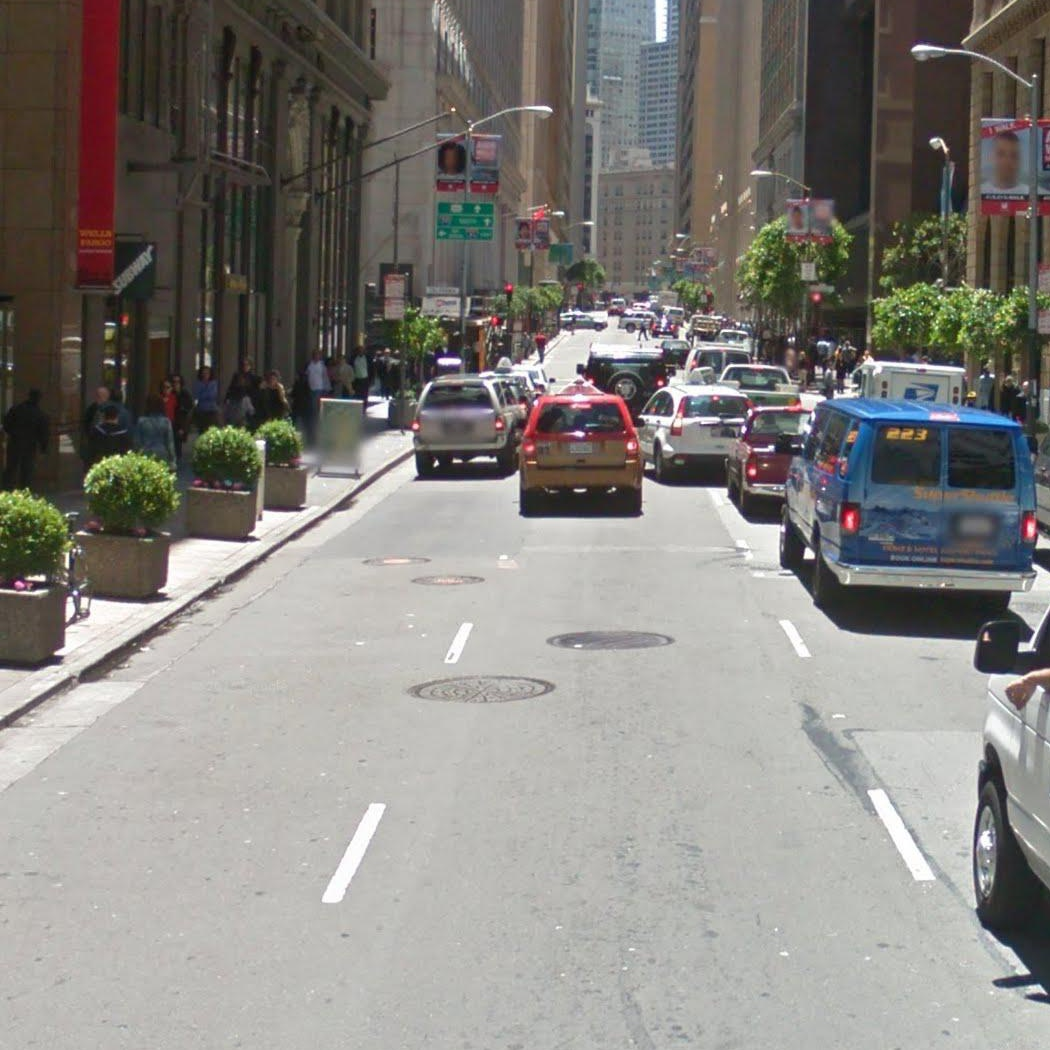No Parking: (384, 300, 403, 319)
